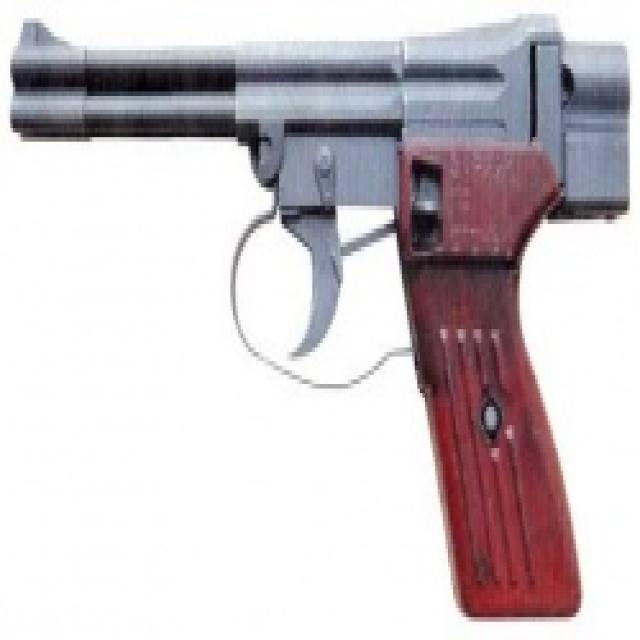pistol: (2, 5, 640, 640)
